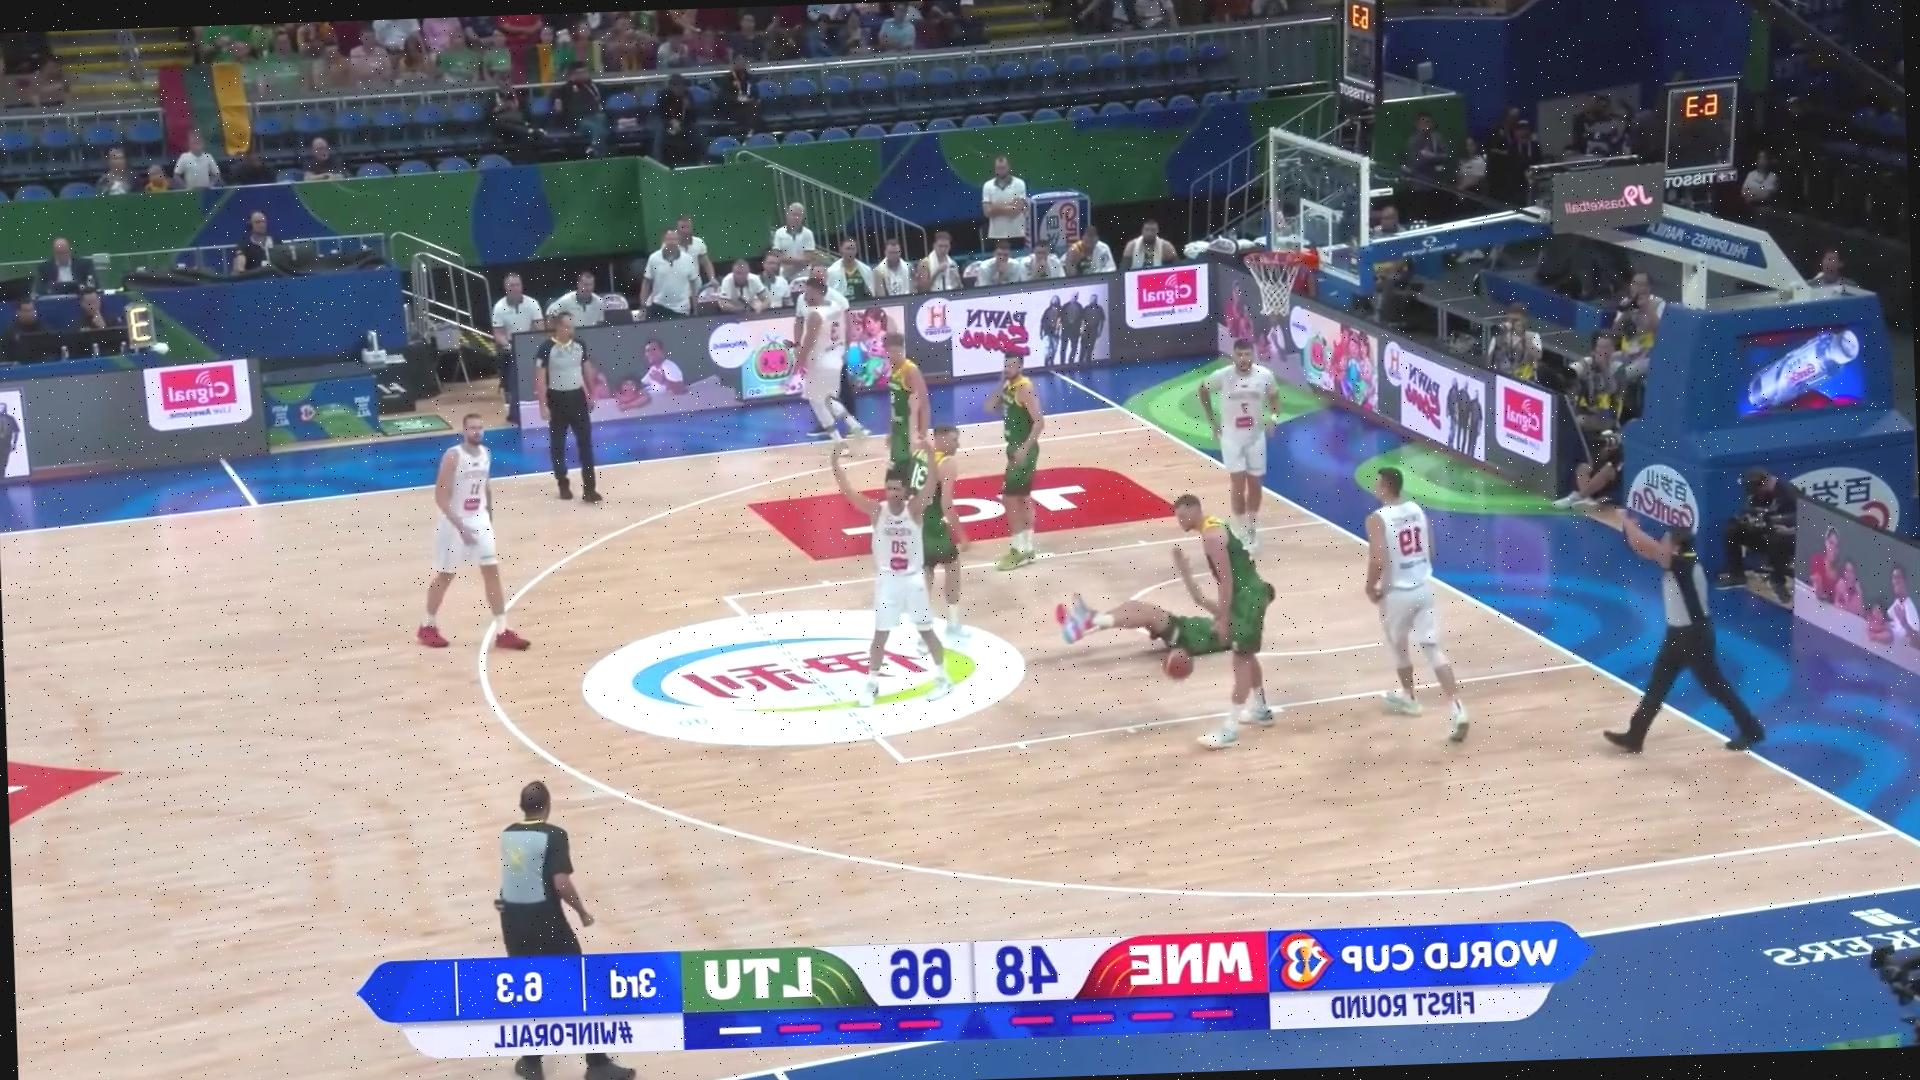foul: (1047, 468, 1298, 719)
